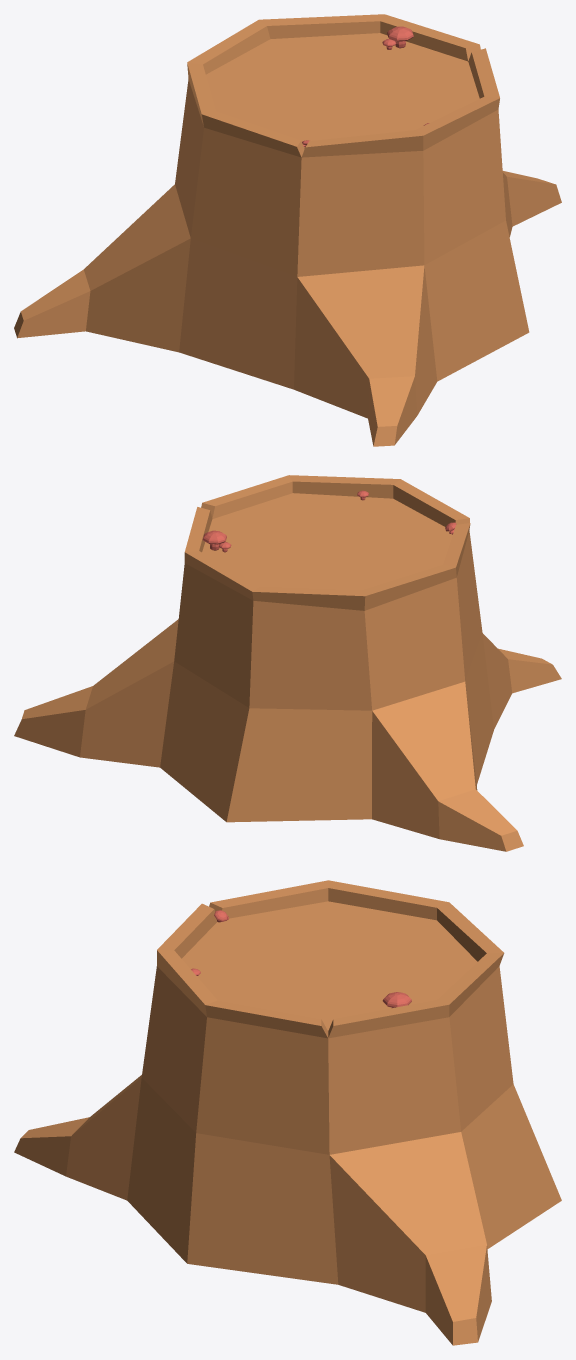
The model's file is ENV_Stump01_Placeholder02.fbx.
3 renders of one model, top to bottom at view 1: azimuth 30°, elevation 25°; view 2: azimuth 150°, elevation 25°; view 3: azimuth 270°, elevation 25°, orthographic. The views are drawn at different scales.
Visible parts, largest first — view 1: Circle.003; view 2: Circle.003; view 3: Circle.003.
Boxes of the visible parts, x1,y1,x2,y2 form: Circle.003: (14, 14, 561, 446); Circle.003: (14, 475, 561, 851); Circle.003: (14, 880, 561, 1345).
Size of the model in its own units: 242 by 297 by 124.
